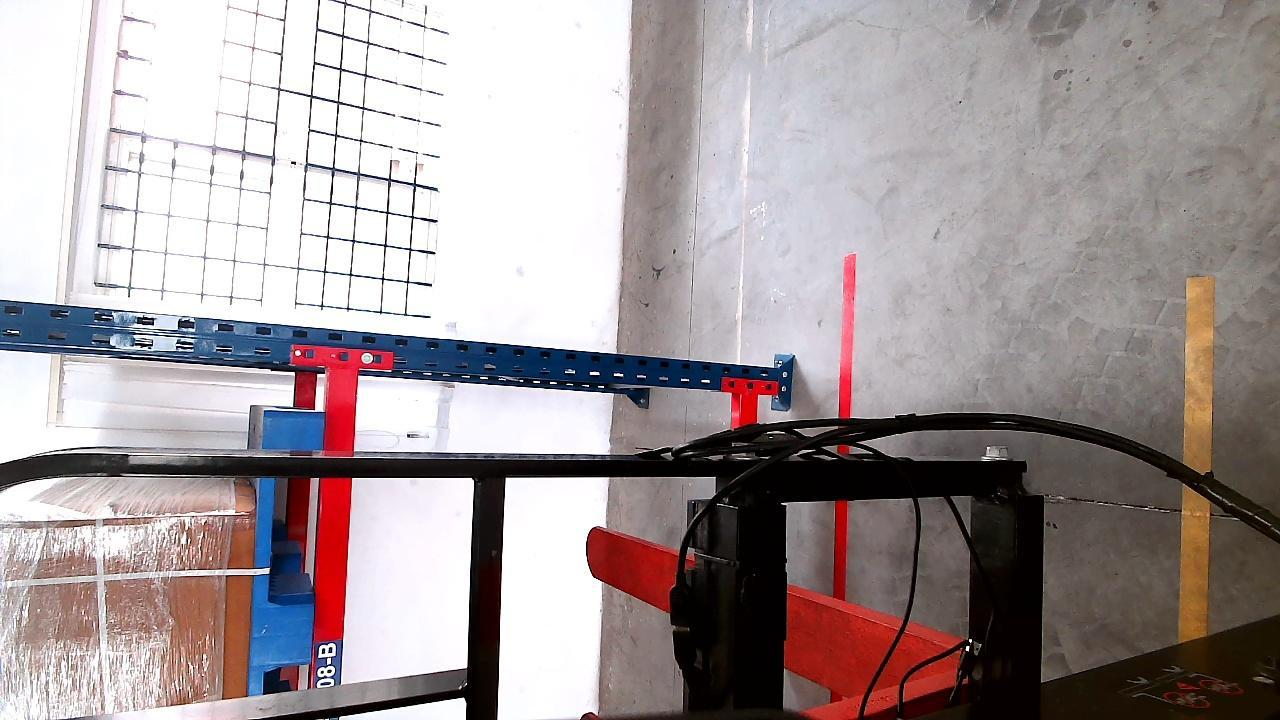red_line: (831, 253, 857, 599)
yellow_line: (1180, 267, 1214, 652)
